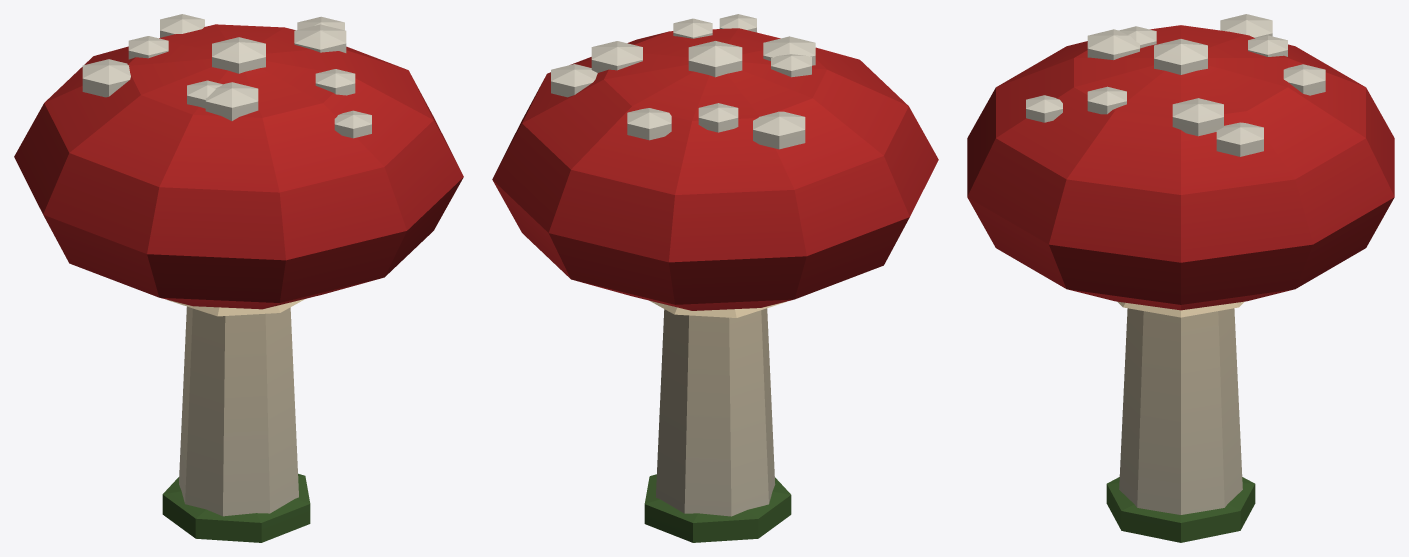
File: toadstool_big.glb
3 views of the same model, side by side, from view 1: azimuth 30°, elevation 25°; view 2: azimuth 150°, elevation 25°; view 3: azimuth 270°, elevation 25° (orthographic).
Visible parts, largest first — view 1: toadstool_big; view 2: toadstool_big; view 3: toadstool_big.
Boxes of the visible parts, <box> form: toadstool_big: <box>14,14,463,542</box>; toadstool_big: <box>492,14,938,542</box>; toadstool_big: <box>967,14,1394,542</box>.
Size of the model in its own units: 2.3 by 2.69 by 2.19.
